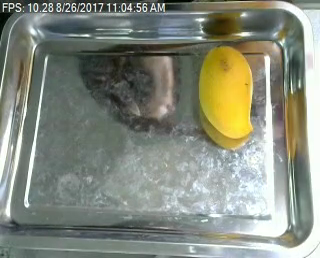Mango: (193, 42, 257, 144)
